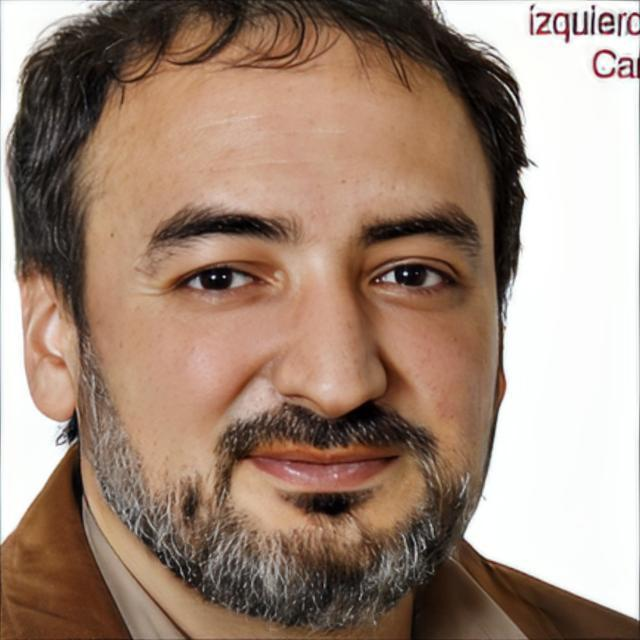happy: (81, 30, 503, 631)
